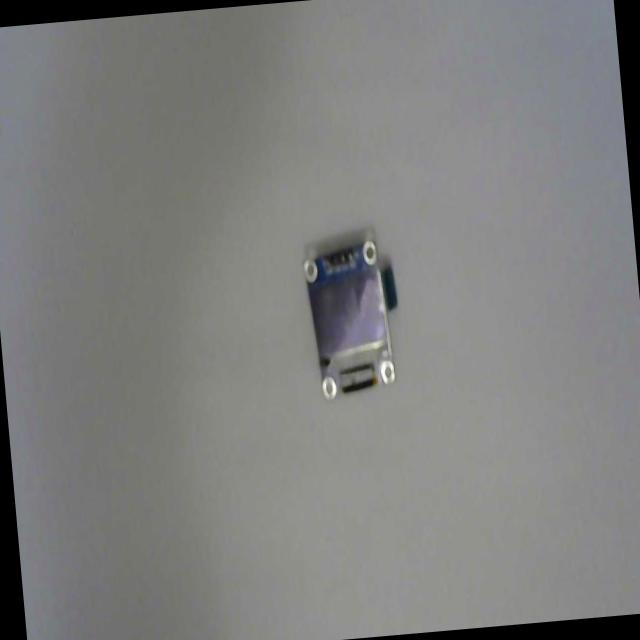oled: (296, 228, 409, 404)
